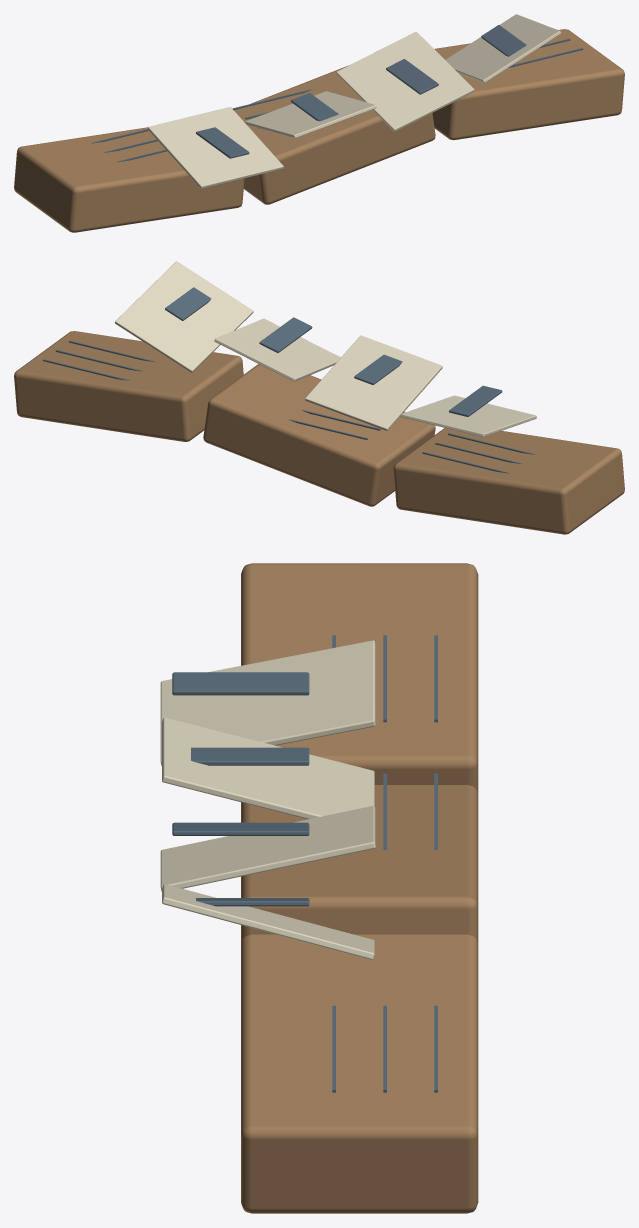
The model's file is fire-paper-fuel.glb.
The picture shows the model from 3 angles, top to bottom: view 1: azimuth 30°, elevation 25°; view 2: azimuth 150°, elevation 25°; view 3: azimuth 270°, elevation 25°; orthographic projection. The views are drawn at different scales.
Visible parts, largest first — view 1: fire-paper-fuel; view 2: fire-paper-fuel; view 3: fire-paper-fuel.
Part boxes in pixels (box(x1,y1,x2,y2)): fire-paper-fuel: box(14, 14, 624, 232); fire-paper-fuel: box(14, 261, 624, 534); fire-paper-fuel: box(160, 563, 478, 1213).
Bounding box in the file's own units: 0.7029 × 0.1493 × 0.1739.
